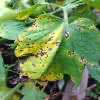Tomato Septoria leaf spot: (14, 13, 99, 85)
